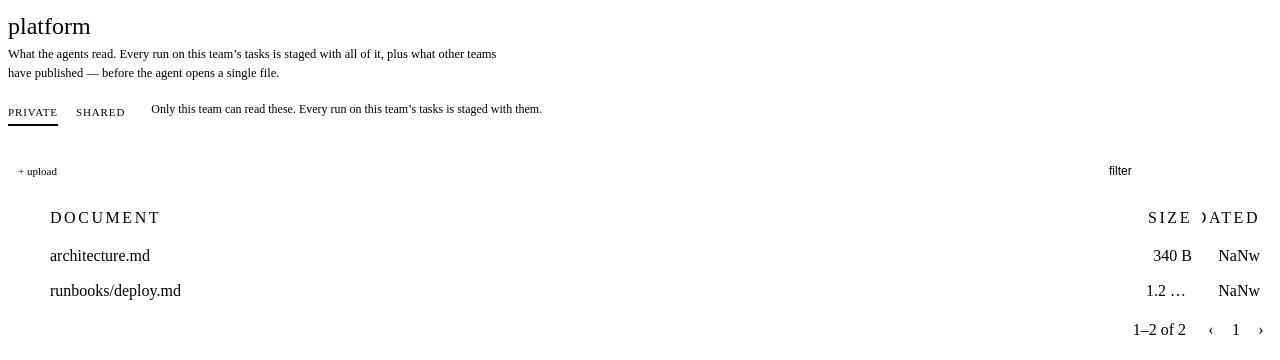
Test: Knowledge — the move verb › names the verb for the direction the current root implies
expect the button "architecture.md" is shown: met, box [50, 247, 150, 265]
Click the 2nd row: (1173, 255) [50, 247, 1260, 265]
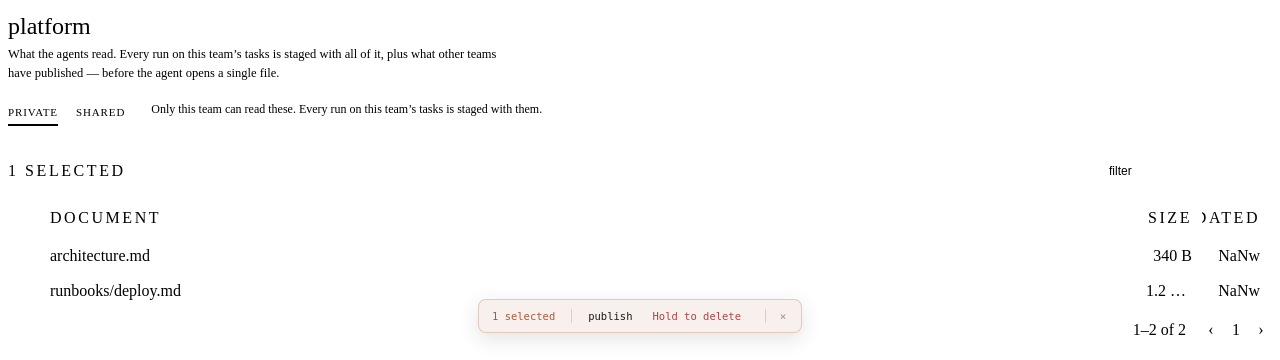
expect the button "publish" is shown: met, box [588, 310, 632, 322]
